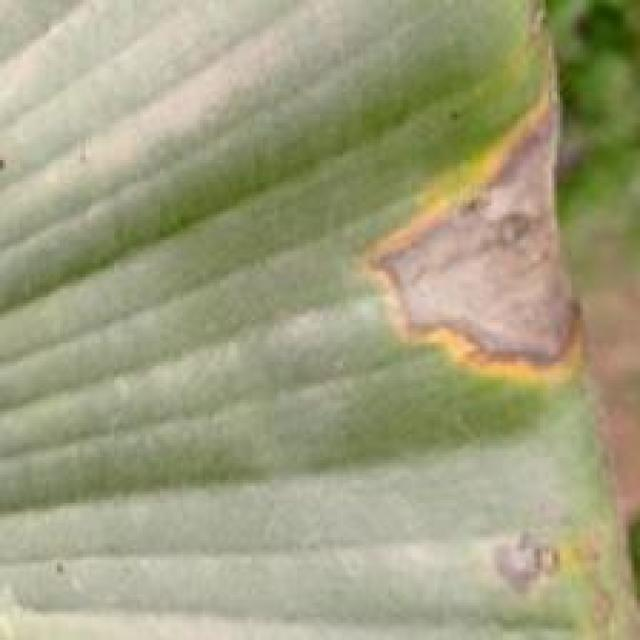Bacterial_spot: (368, 75, 587, 405), (476, 514, 627, 638), (512, 1, 565, 72)
